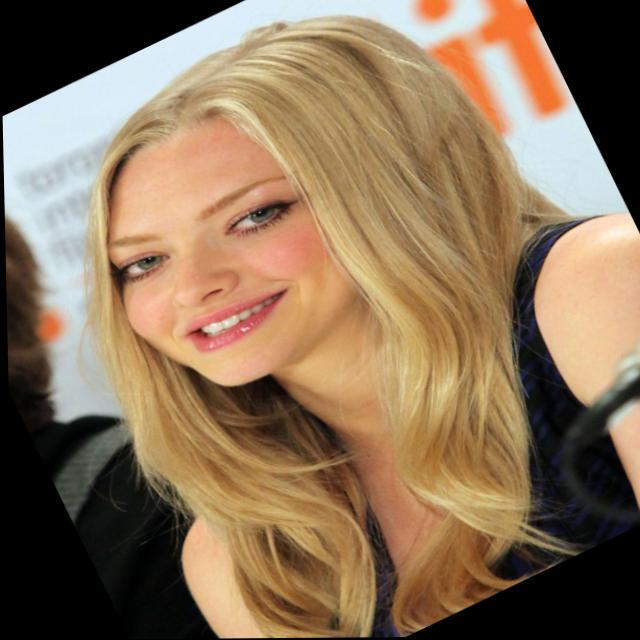Nonhelmet: (103, 16, 429, 387)
